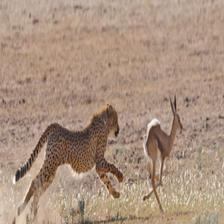Cheetah: (11, 103, 126, 224)
